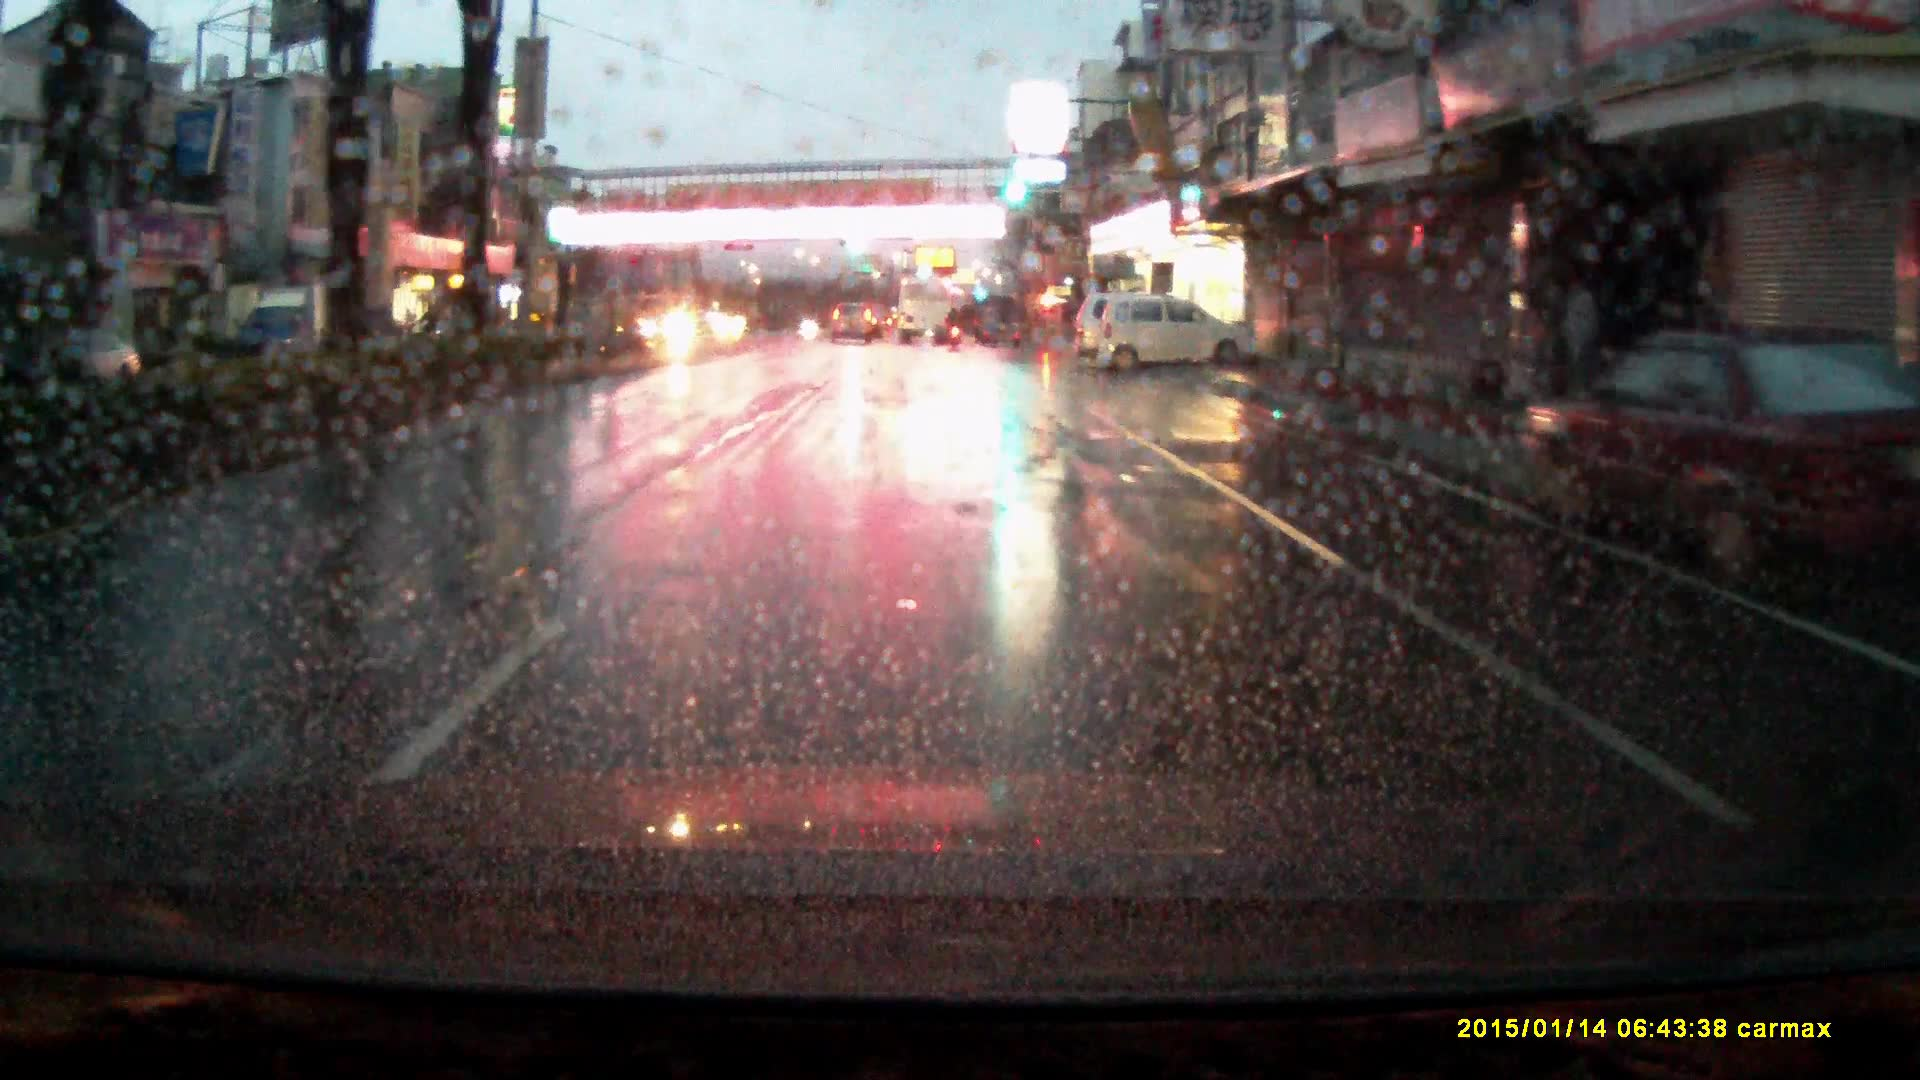rider: (945, 307, 965, 352)
vehicle: (1519, 322, 1920, 574), (1094, 291, 1258, 375), (241, 286, 340, 358), (1072, 290, 1155, 360), (898, 275, 951, 344), (640, 291, 707, 342), (830, 299, 876, 343)
